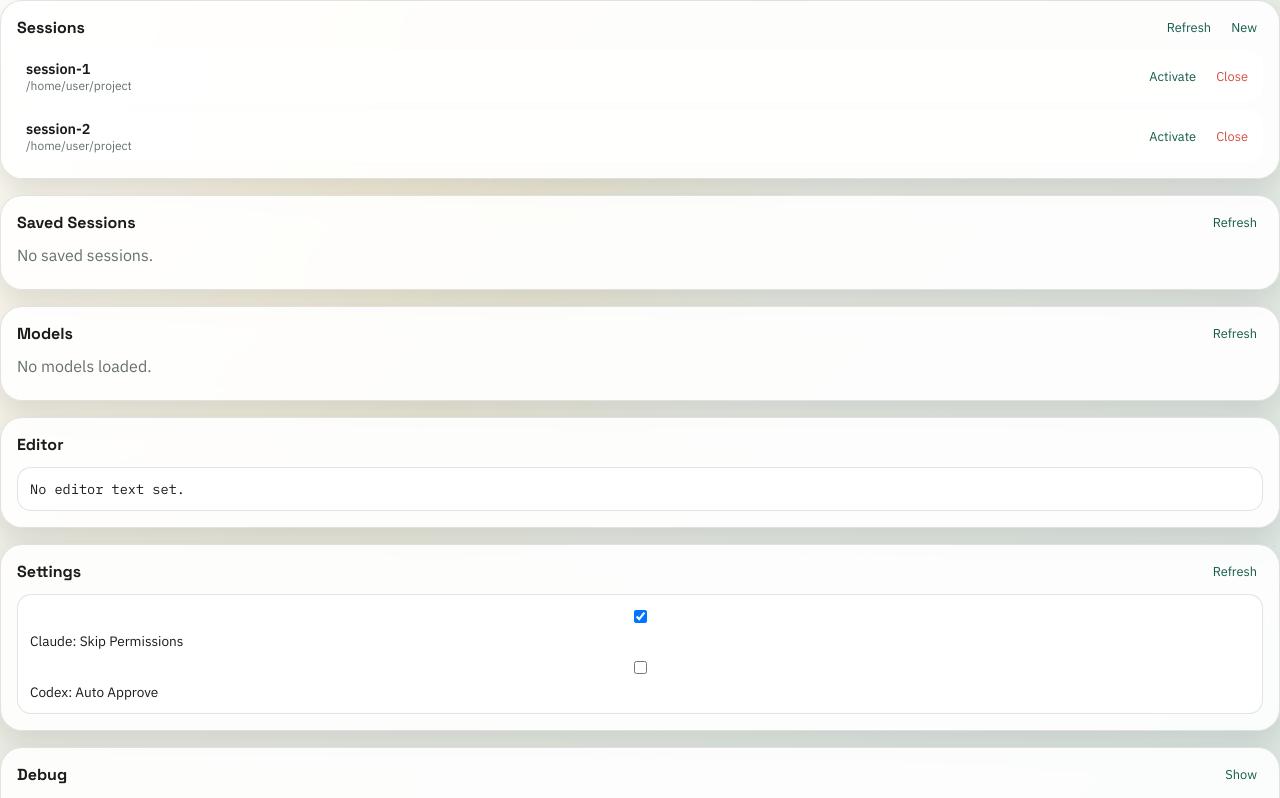
Test: Sidebar › New Session Creation Form › renders parent session dropdown
Click the button "New": click(1244, 28) [1225,18,1263,37]
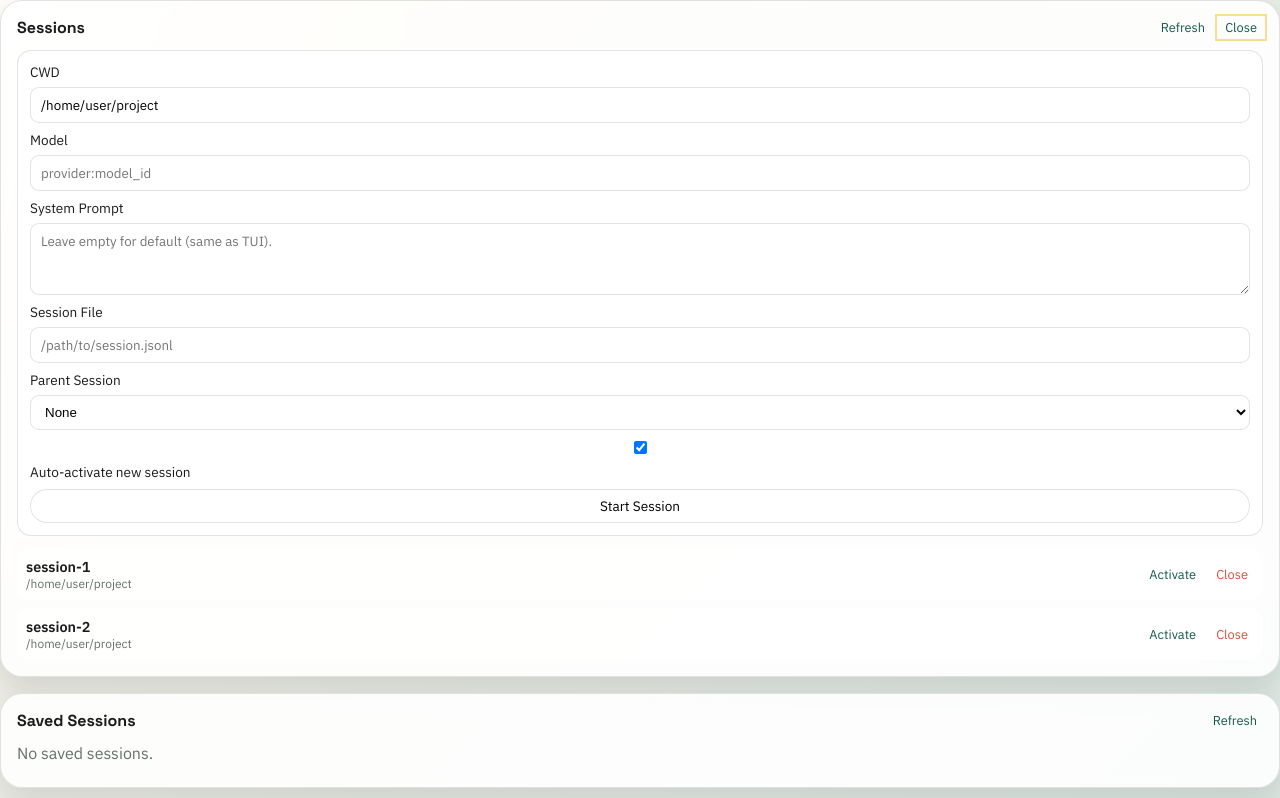
expect the dropdown labelled "Parent Session" is shown: met, box [30,395,1250,430]
